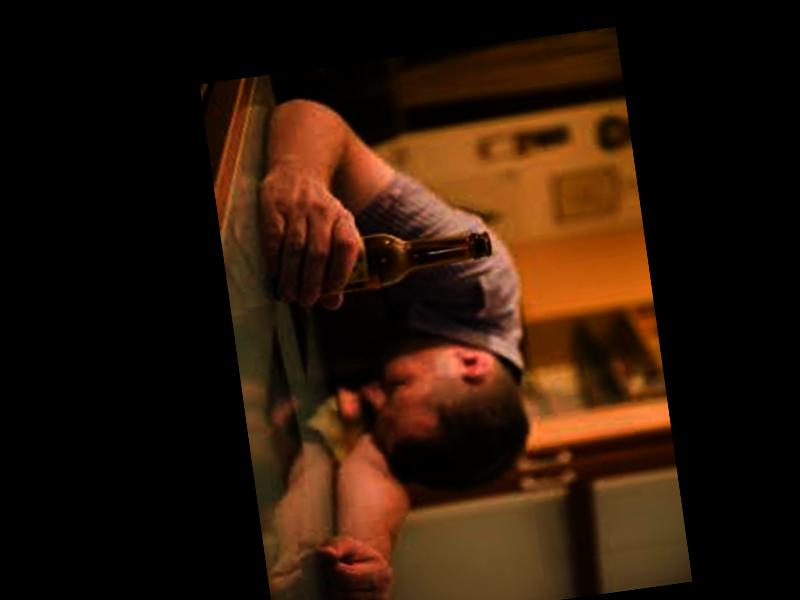Beer: (266, 221, 495, 300)
